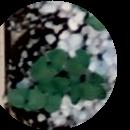Basil: (31, 48, 63, 81), (4, 89, 48, 112), (69, 80, 105, 105), (38, 82, 62, 112), (66, 50, 90, 78)
